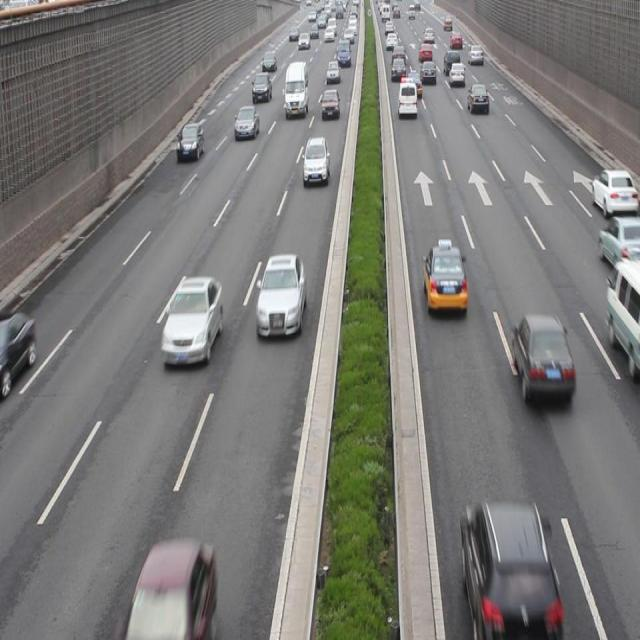car: (458, 502, 560, 624), (512, 314, 574, 408), (162, 279, 222, 367), (256, 254, 306, 339), (422, 238, 467, 314), (596, 214, 640, 278), (589, 164, 631, 214), (302, 136, 328, 185), (176, 121, 203, 160), (233, 106, 259, 139)
truck: (605, 256, 640, 375)
